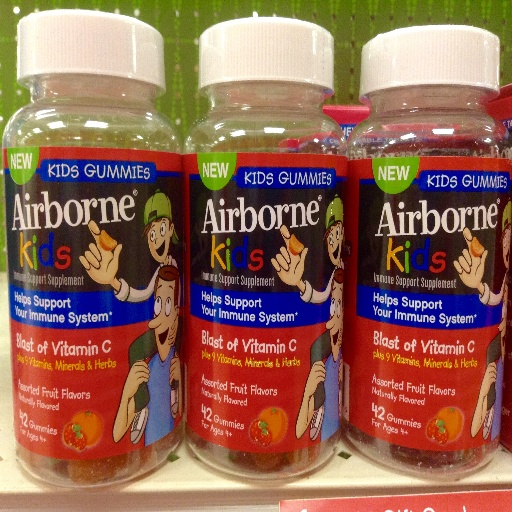hand: (78, 217, 122, 285), (269, 223, 308, 288), (464, 226, 495, 301), (122, 358, 149, 398), (303, 359, 326, 396), (478, 359, 497, 400), (167, 352, 181, 387), (166, 316, 178, 346), (337, 354, 343, 383)
